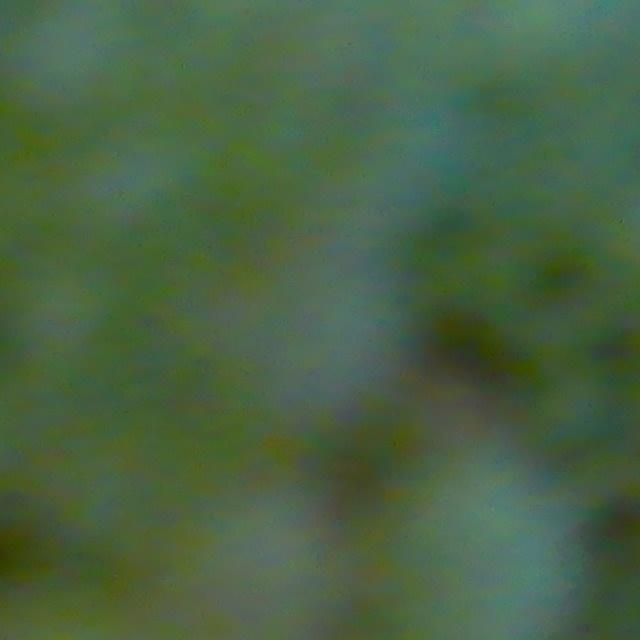SeaGrape: (371, 476, 559, 640), (163, 489, 326, 640)
